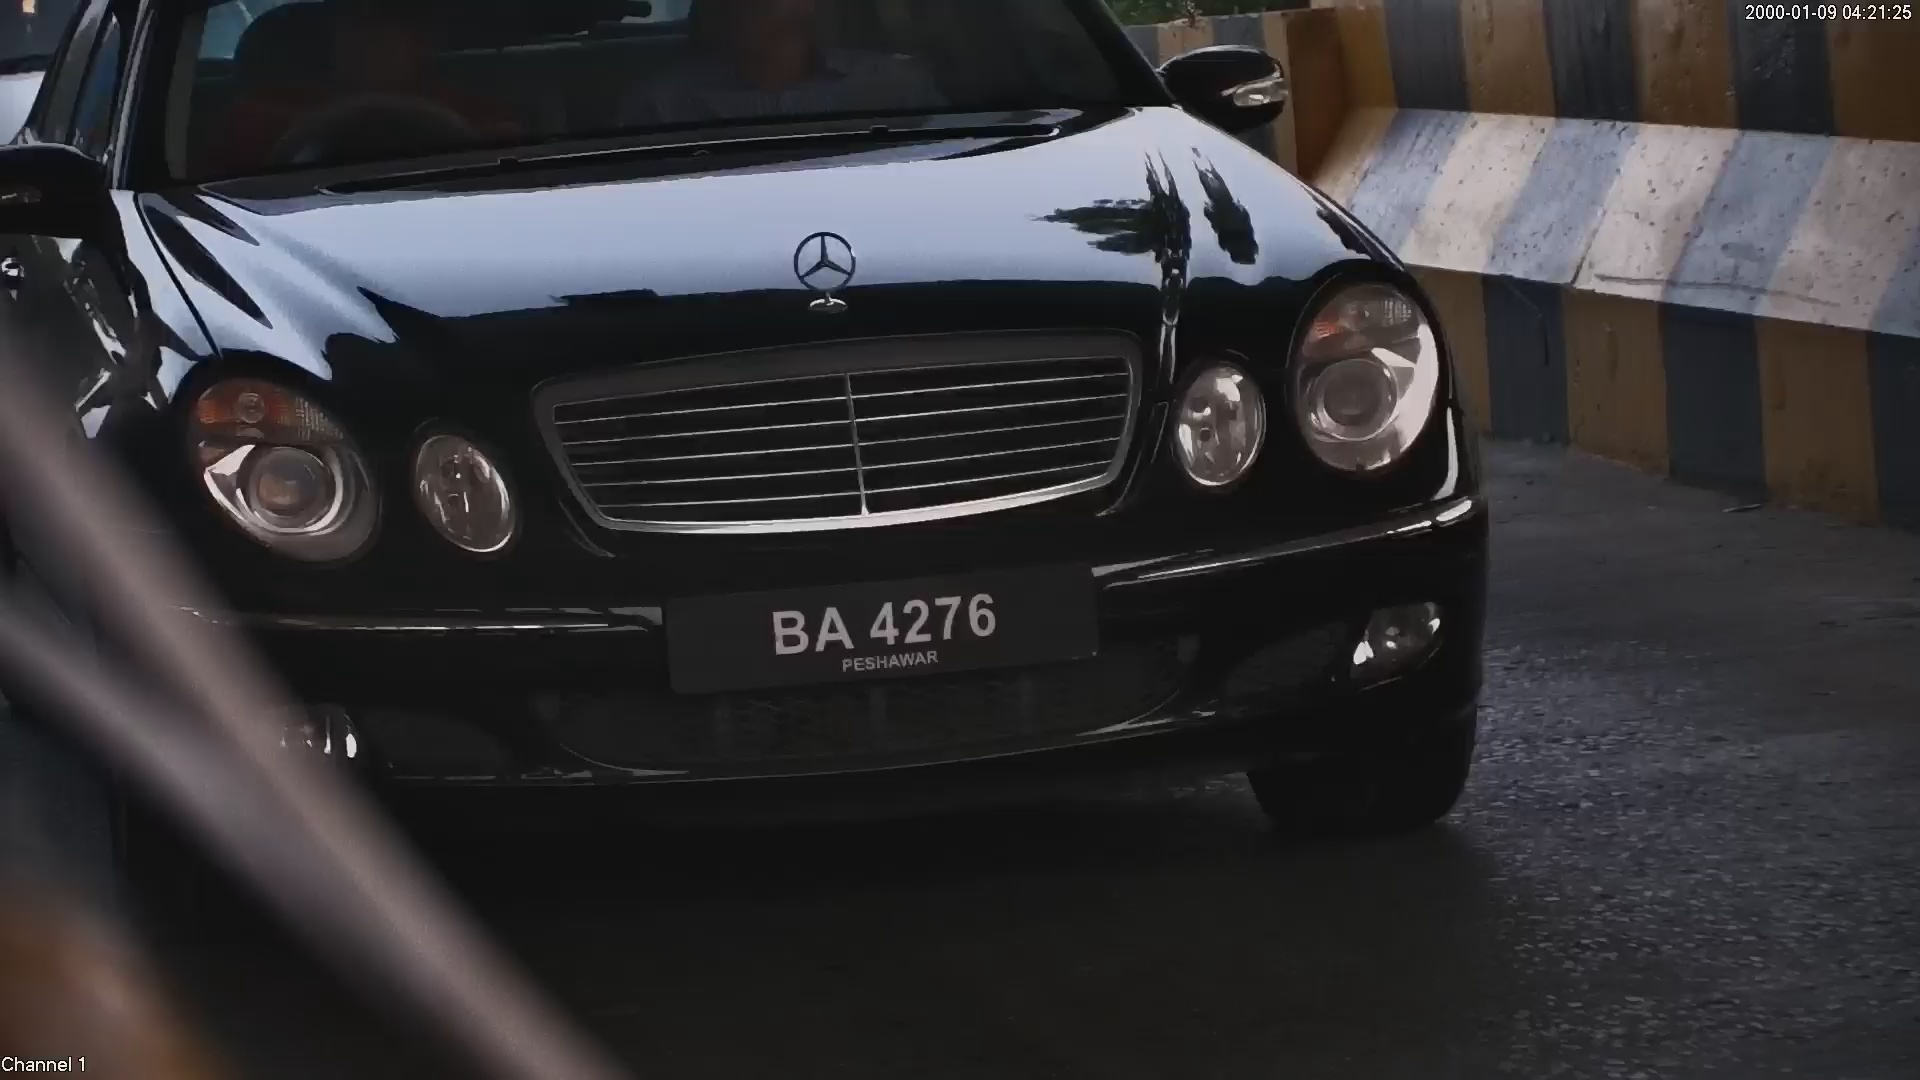Number_Plate: (645, 557, 1106, 688)
Undefined: (169, 359, 515, 564), (1176, 283, 1452, 496)
